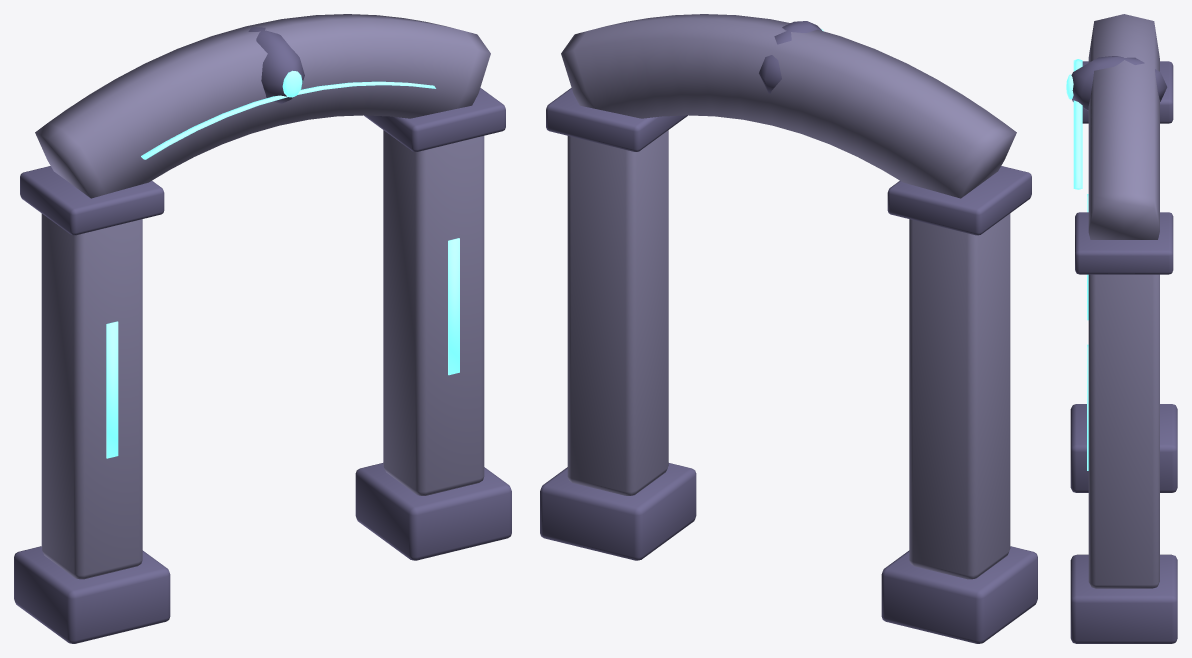
Rendered from arch.glb.
3 renders of one model, left to right at view 1: azimuth 30°, elevation 25°; view 2: azimuth 150°, elevation 25°; view 3: azimuth 270°, elevation 25°, orthographic. The views are drawn at different scales.
Parts seen in each view (by area): view 1: arch:mesh; view 2: arch:mesh; view 3: arch:mesh.
Part boxes in pixels (x1,y1,x2,y2): arch:mesh: (14,14,511,643); arch:mesh: (540,14,1037,643); arch:mesh: (1066,14,1177,643).
Bounding box in the file's own units: 3.12 × 3.64 × 0.7501.
